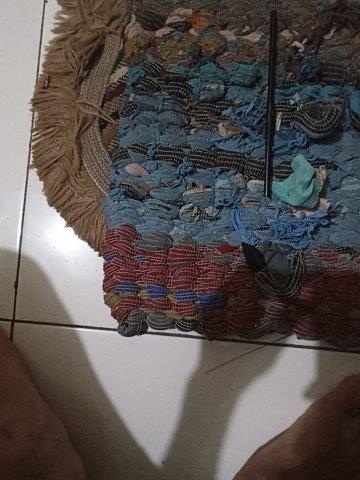sedotan: (264, 12, 276, 198)
